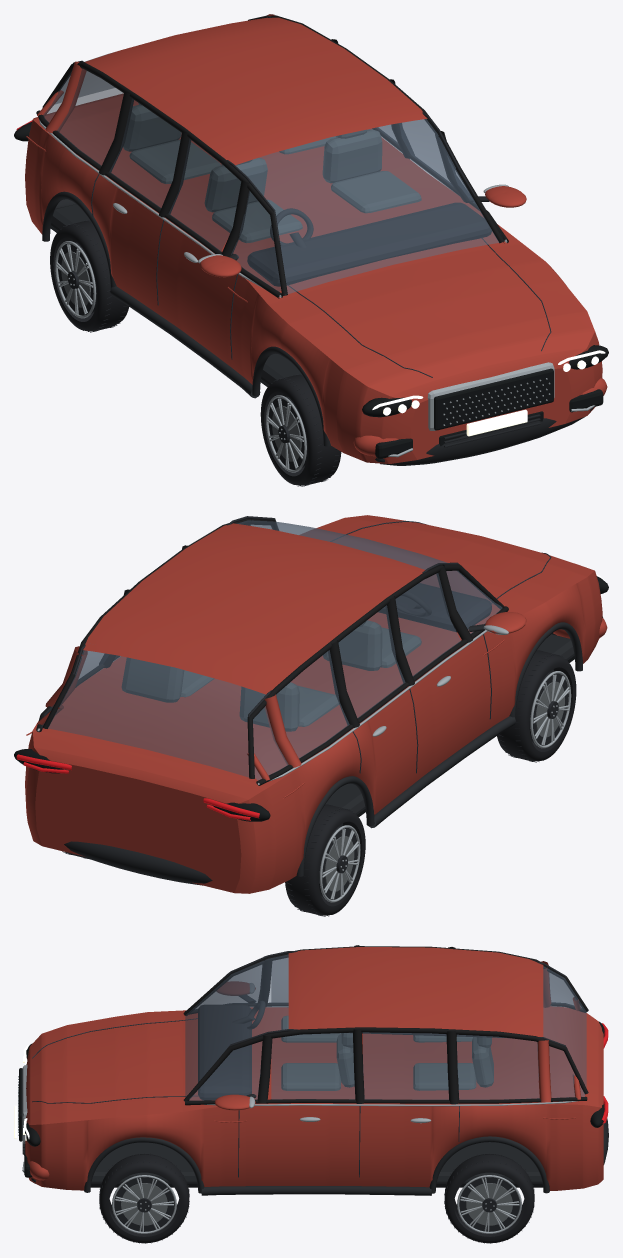
Rendered from Rheydt_Stadtauto.glb.
The picture shows the model from 3 angles, top to bottom: view 1: azimuth 30°, elevation 25°; view 2: azimuth 150°, elevation 25°; view 3: azimuth 270°, elevation 25°; orthographic projection. The views are drawn at different scales.
Parts seen in each view (by area): view 1: Haube_und_Schulterlinie, Dachblech, Dach_und_Scheibenprofil, Karosserie_Seite, Armaturenbrett, Rad_Vorne_L_Mesh, Rad_Hinten_L_Mesh, Seitenscheibe_1, Seitenscheibe_2, Grilleinsatz, Seitenscheibe_3, Seitenscheibe_0 (+26 smaller); view 2: Haube_und_Schulterlinie, Dachblech, Karosserie_Seite, Dach_und_Scheibenprofil, Heckabschluss, Rad_Hinten_L_Mesh, Rad_Vorne_L_Mesh, Seitenscheibe_3, Seitenscheibe_2, Seitenscheibe_1, Heckdiffusor, Armaturenbrett (+22 smaller); view 3: Karosserie_Seite.001, Haube_und_Schulterlinie, Dachblech, Dach_und_Scheibenprofil, Rad_Vorne_R_Mesh, Rad_Hinten_R_Mesh, Seitenscheibe_2.001, Seitenscheibe_1.001, Seitenscheibe_3.001, Armaturenbrett, Unterboden, Seitenscheibe_0.001 (+23 smaller).
Part boxes in pixels (x1=…): Haube_und_Schulterlinie: x1=33, y1=93, x2=594, y2=402; Dachblech: x1=85, y1=17, x2=427, y2=165; Dach_und_Scheibenprofil: x1=55, y1=52, x2=498, y2=293; Karosserie_Seite: x1=25, y1=120, x2=416, y2=463; Armaturenbrett: x1=247, y1=202, x2=491, y2=286; Rad_Vorne_L_Mesh: x1=260, y1=374, x2=341, y2=486; Rad_Hinten_L_Mesh: x1=50, y1=220, x2=128, y2=332; Seitenscheibe_1: x1=168, y1=139, x2=240, y2=251; Seitenscheibe_2: x1=109, y1=99, x2=181, y2=208; Grilleinsatz: x1=434, y1=368, x2=553, y2=430; Seitenscheibe_3: x1=57, y1=68, x2=123, y2=165; Seitenscheibe_0: x1=231, y1=191, x2=281, y2=291; Haube_und_Schulterlinie: x1=32, y1=515, x2=594, y2=803; Dachblech: x1=83, y1=523, x2=424, y2=694; Karosserie_Seite: x1=234, y1=571, x2=602, y2=893; Dach_und_Scheibenprofil: x1=48, y1=520, x2=494, y2=777; Heckabschluss: x1=35, y1=761, x2=241, y2=892; Rad_Hinten_L_Mesh: x1=285, y1=804, x2=365, y2=916; Rad_Vorne_L_Mesh: x1=497, y1=650, x2=576, y2=762; Seitenscheibe_3: x1=276, y1=650, x2=349, y2=758; Seitenscheibe_2: x1=338, y1=605, x2=405, y2=718; Seitenscheibe_1: x1=395, y1=573, x2=460, y2=676; Heckdiffusor: x1=64, y1=841, x2=212, y2=885; Armaturenbrett: x1=378, y1=583, x2=491, y2=632; Karosserie_Seite.001: x1=25, y1=1104, x2=603, y2=1190; Haube_und_Schulterlinie: x1=26, y1=1006, x2=603, y2=1124; Dachblech: x1=288, y1=947, x2=543, y2=1036; Dach_und_Scheibenprofil: x1=185, y1=954, x2=586, y2=1097; Rad_Vorne_R_Mesh: x1=99, y1=1153, x2=189, y2=1243; Rad_Hinten_R_Mesh: x1=444, y1=1153, x2=534, y2=1243; Seitenscheibe_2.001: x1=363, y1=1032, x2=448, y2=1099; Seitenscheibe_1.001: x1=271, y1=1032, x2=355, y2=1099; Seitenscheibe_3.001: x1=457, y1=1034, x2=539, y2=1099; Armaturenbrett: x1=198, y1=1004, x2=251, y2=1100; Unterboden: x1=91, y1=1142, x2=542, y2=1187; Seitenscheibe_0.001: x1=189, y1=1041, x2=262, y2=1100.
Bounding box in the file's own units: 2.1 × 1.62 × 4.16.
